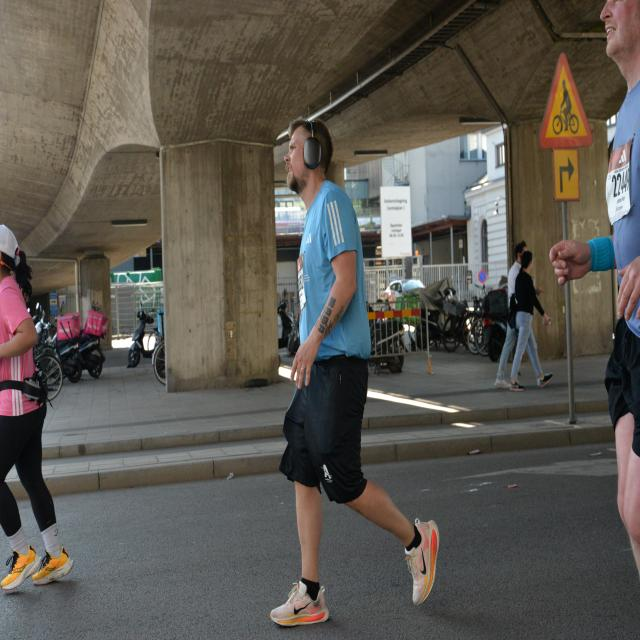runner-detect: (266, 116, 450, 628), (0, 208, 83, 610)
